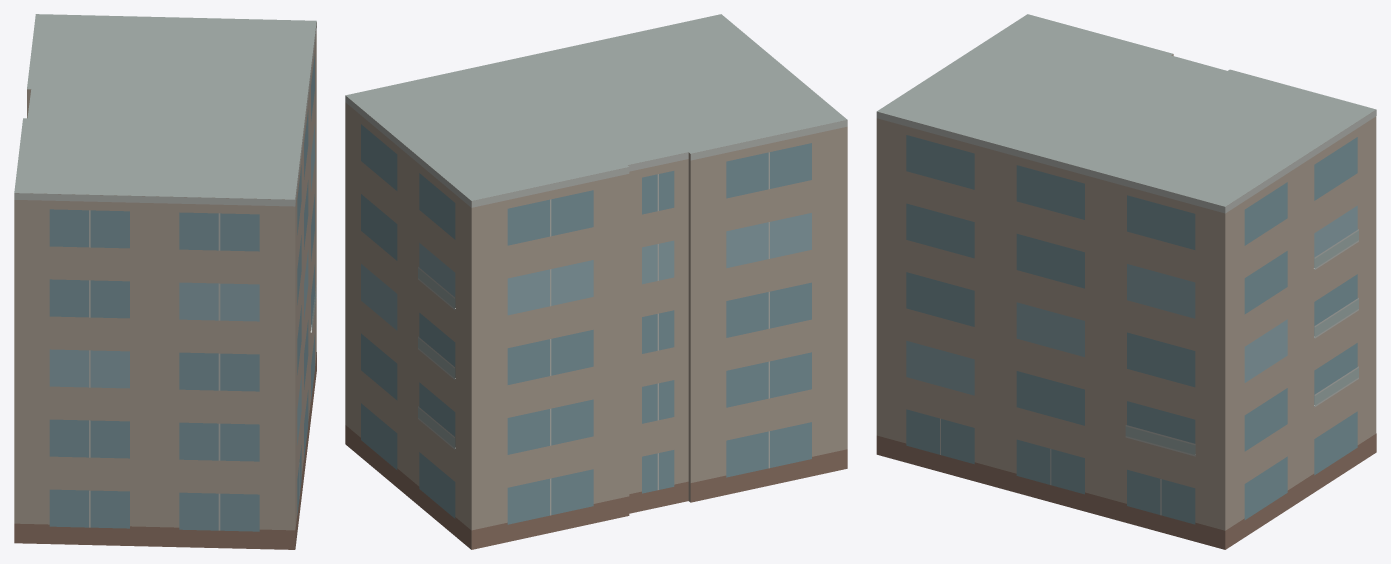
The model's file is survey-upis-32657935.glb.
3 views of the same model, side by side, from view 1: azimuth 30°, elevation 25°; view 2: azimuth 150°, elevation 25°; view 3: azimuth 270°, elevation 25° (orthographic). The views are drawn at different scales.
Visible parts, largest first — view 1: survey-upis-32657935.tmp; view 2: survey-upis-32657935.tmp; view 3: survey-upis-32657935.tmp.
Boxes of the visible parts, bbox=[...] form: survey-upis-32657935.tmp: bbox=[14, 14, 316, 549]; survey-upis-32657935.tmp: bbox=[345, 14, 847, 549]; survey-upis-32657935.tmp: bbox=[876, 14, 1376, 549].
Size of the model in its own units: 15.08 by 12.5 by 16.51.
